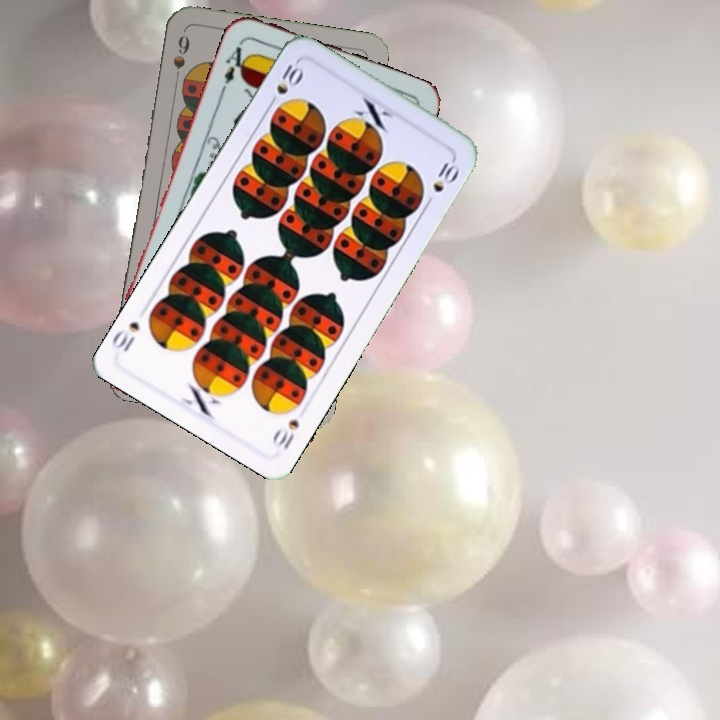EA: (217, 37, 253, 93)
S10: (264, 57, 307, 110), (268, 414, 302, 452)
S9: (169, 31, 192, 88)
